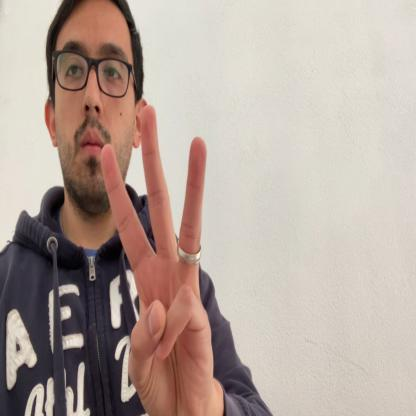W: (101, 105, 214, 410)
